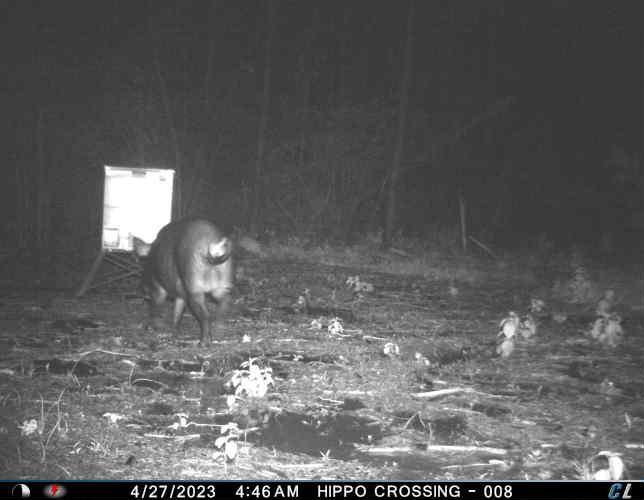Hog: (128, 214, 241, 351)
